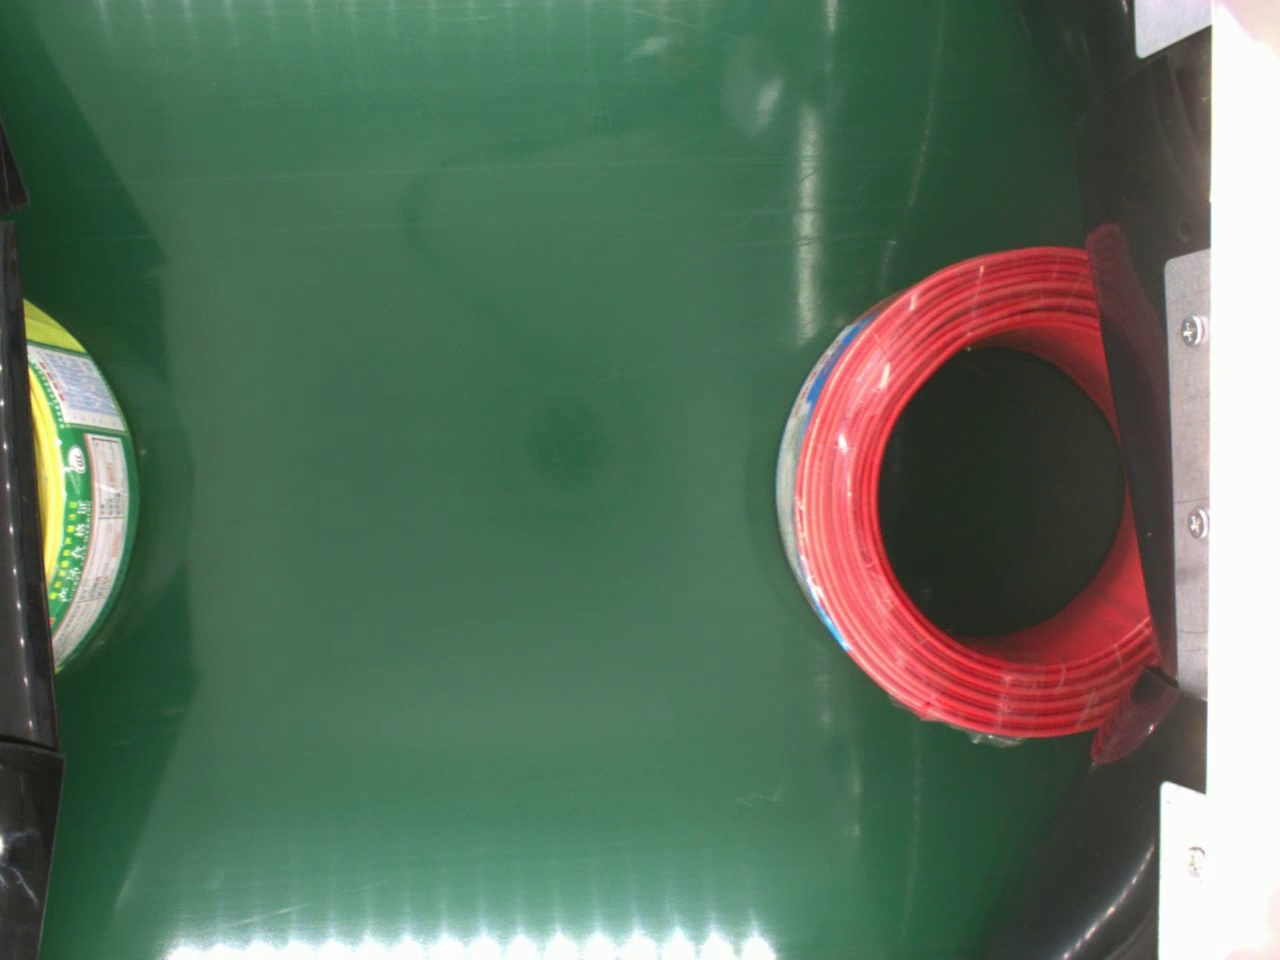red: (774, 242, 1155, 749)
